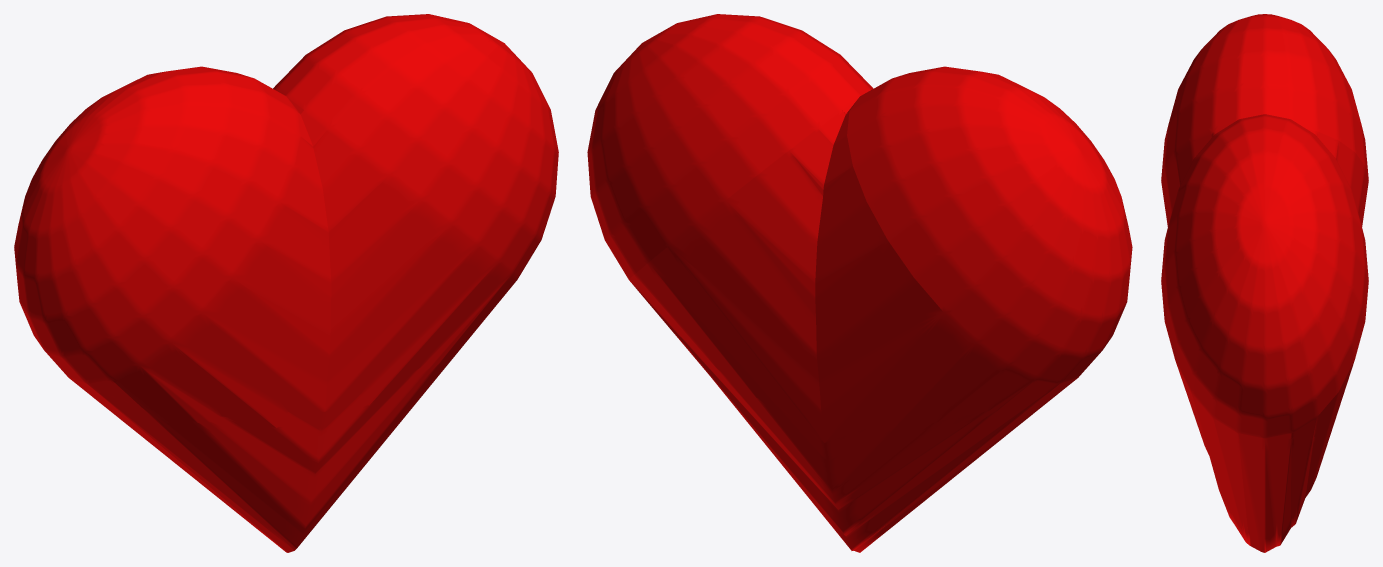
The model's file is Heart.fbx.
The picture shows the model from 3 angles, left to right: view 1: azimuth 30°, elevation 25°; view 2: azimuth 150°, elevation 25°; view 3: azimuth 270°, elevation 25°; orthographic projection. The views are drawn at different scales.
Parts seen in each view (by area): view 1: SketchUp; view 2: SketchUp; view 3: SketchUp.
Part boxes in pixels (x1,y1,x2,y2): SketchUp: (14,14,558,552); SketchUp: (587,14,1132,552); SketchUp: (1161,14,1368,552).
Bounding box in the file's own units: 666 × 608 × 242.
